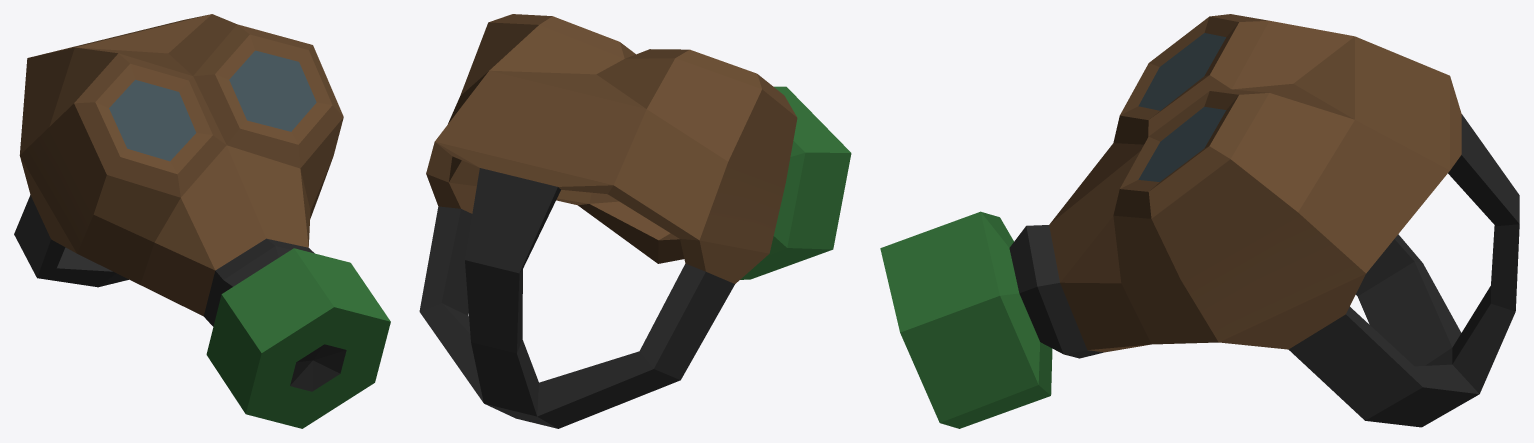
The model's file is survival_gas-mask.fbx.
3 views of the same model, side by side, from view 1: azimuth 30°, elevation 25°; view 2: azimuth 150°, elevation 25°; view 3: azimuth 270°, elevation 25° (orthographic). The views are drawn at different scales.
Parts seen in each view (by area): view 1: survival_gas_mask; view 2: survival_gas_mask; view 3: survival_gas_mask.
Boxes of the visible parts, x1,y1,x2,y2 form: survival_gas_mask: (14,14,390,428); survival_gas_mask: (419,14,851,428); survival_gas_mask: (880,14,1519,428).
Bounding box in the file's own units: 109 × 128 × 200.
